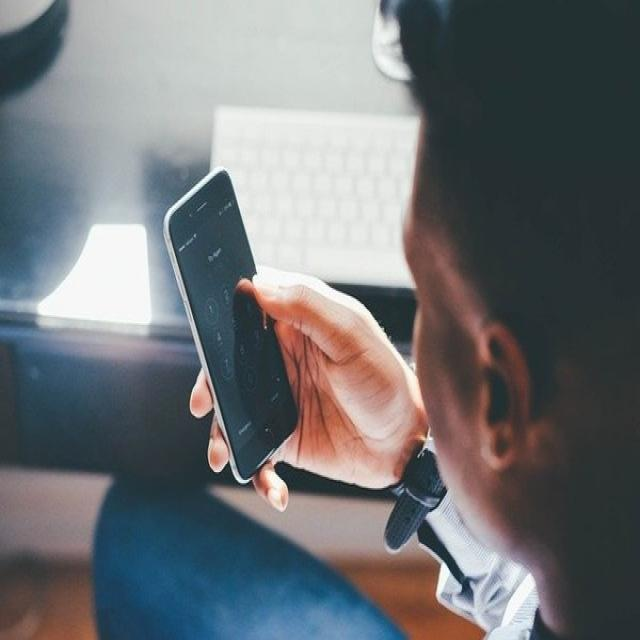Phone: (162, 167, 306, 484)
